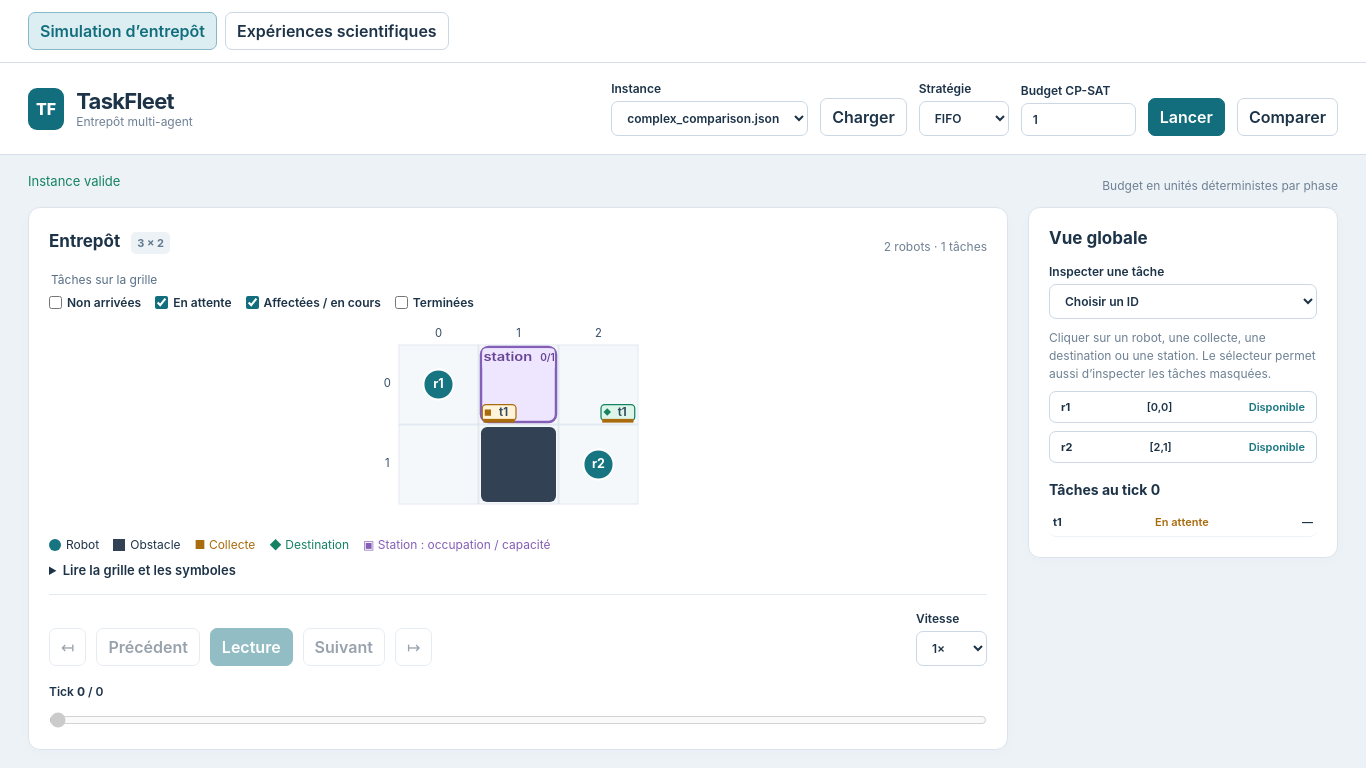
Test: TaskFleet UI › restarts timer when speed changes during playback and cleans up on unmount
Click the button with test id "run". click: (1186, 117)
box: [1148,98,1225,136]
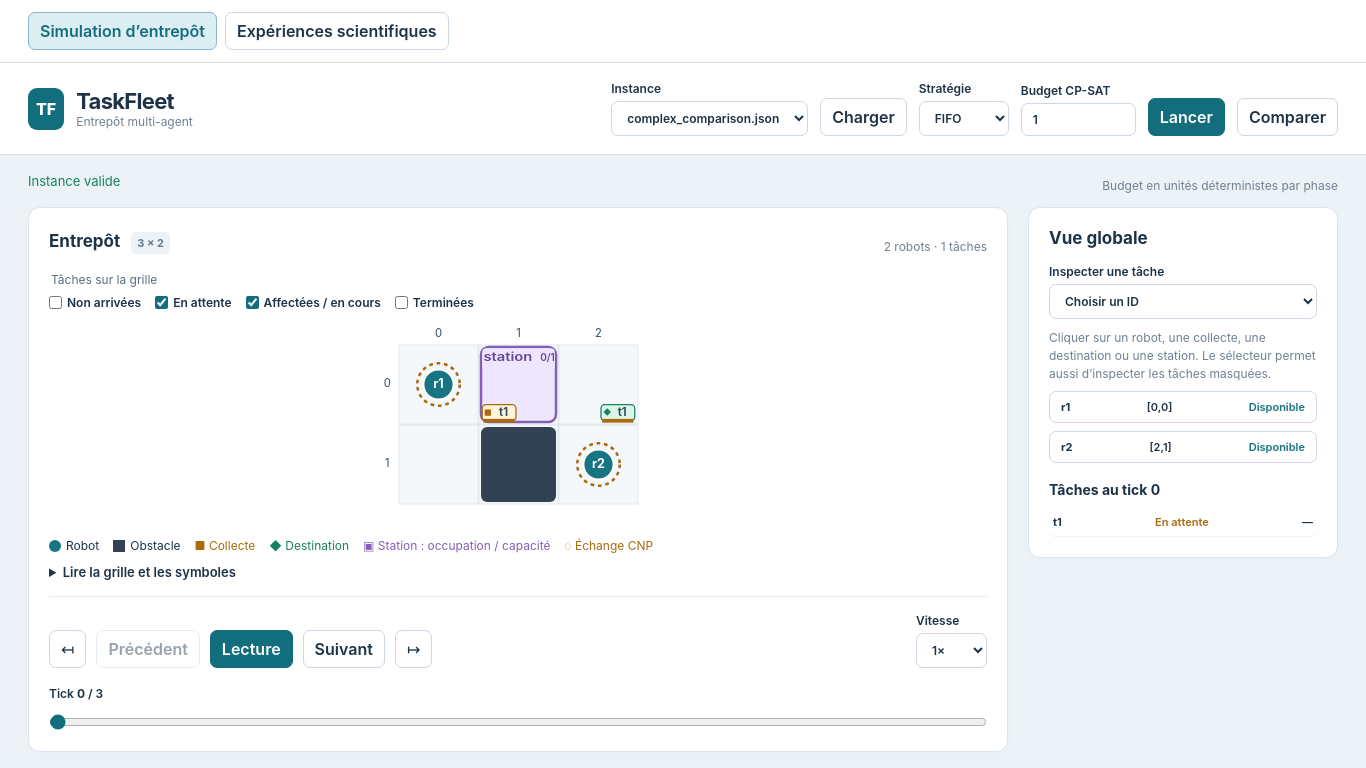
Click the button with test id "play". click: (251, 649)
box: [210,630,293,668]
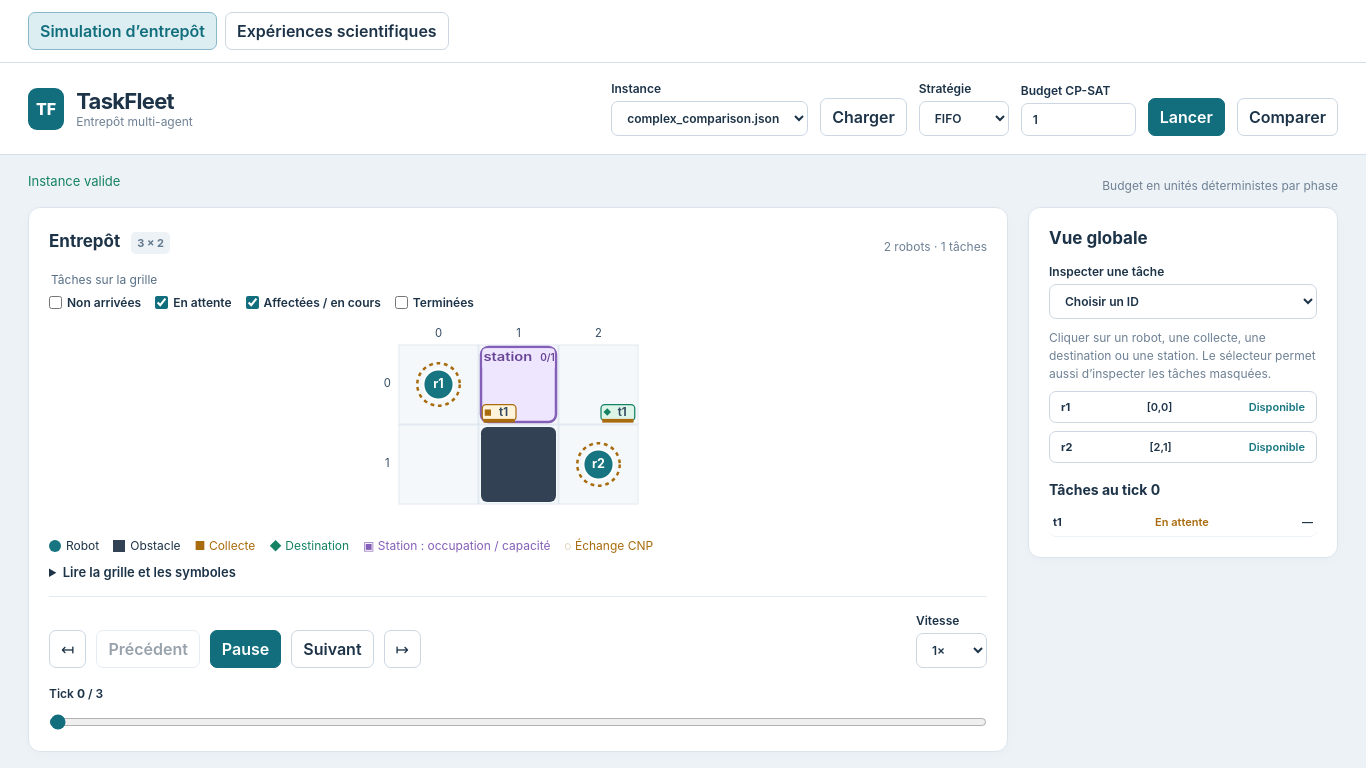
Select "2×" in the dropdown with test id "speed". click: (952, 650)
box: [916,633,987,668]
Wait 250 ms
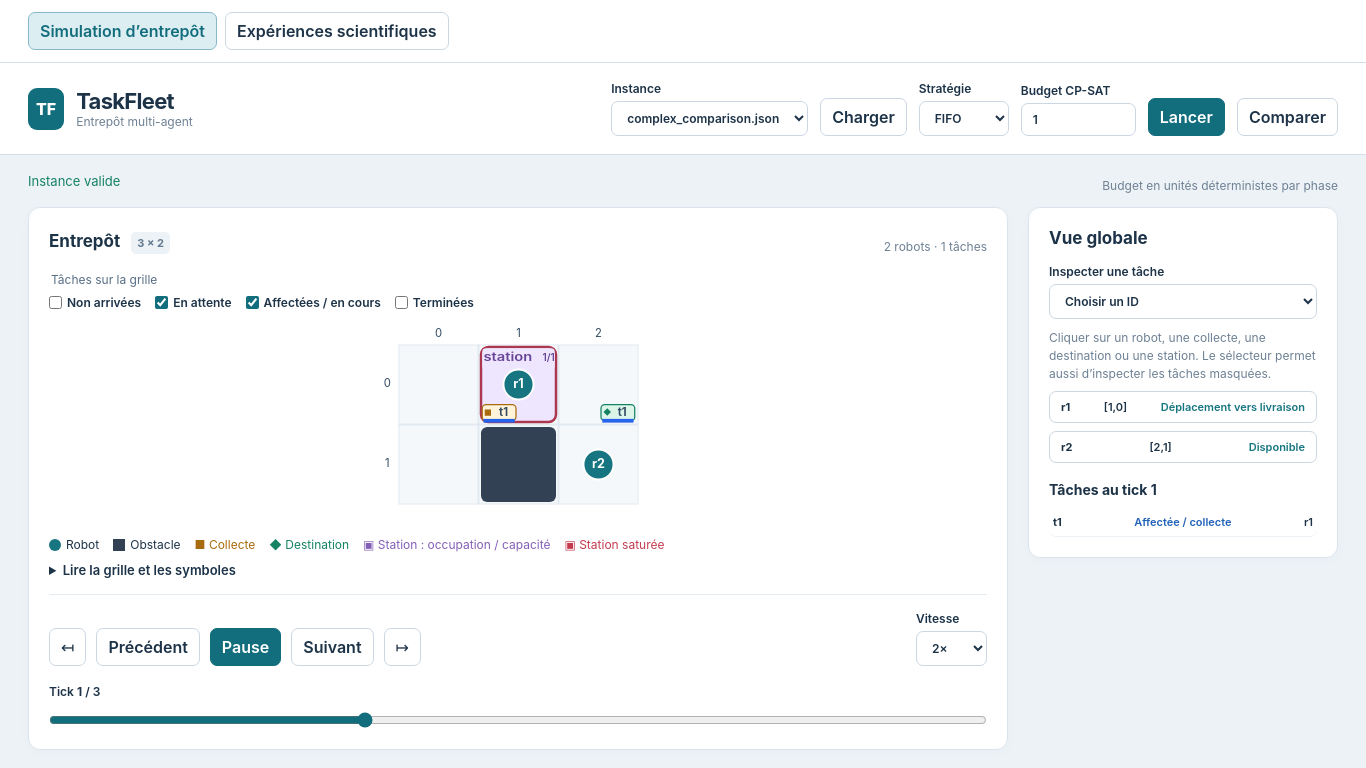
Result: the text with test id "tick" reads "1" at [77,684,82,699]
